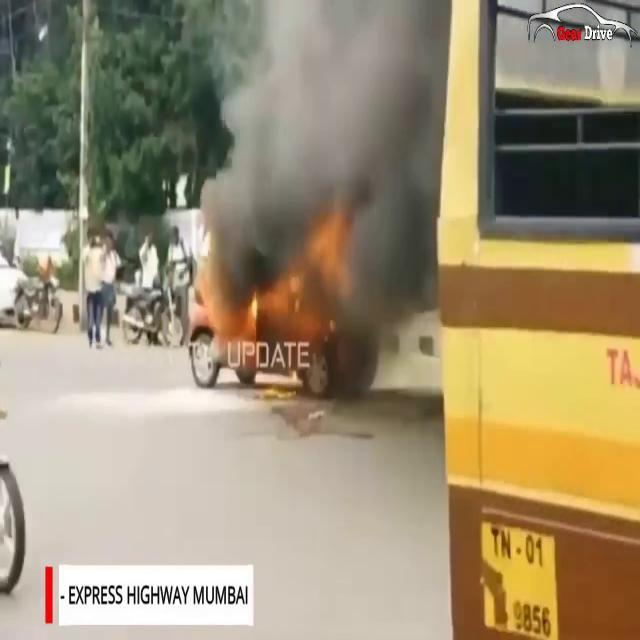Fire: (227, 215, 357, 346)
Smoke: (191, 0, 454, 320)
